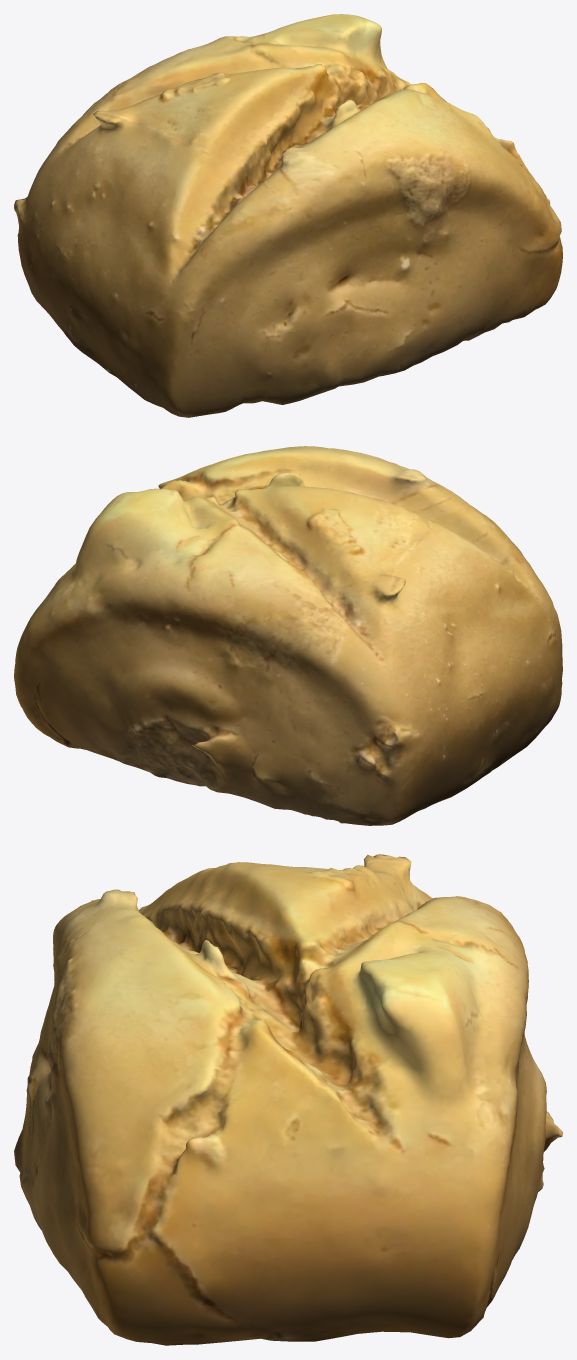
Rendered from 红糖馒头.glb.
3 views of the same model, one above another, from view 1: azimuth 30°, elevation 25°; view 2: azimuth 150°, elevation 25°; view 3: azimuth 270°, elevation 25° (orthographic). The views are drawn at different scales.
Visible parts, largest first — view 1: 某种馒头.usdz; view 2: 某种馒头.usdz; view 3: 某种馒头.usdz.
Boxes of the visible parts, x1,y1,x2,y2 form: 某种馒头.usdz: [14, 14, 562, 417]; 某种馒头.usdz: [14, 446, 562, 825]; 某种馒头.usdz: [14, 854, 562, 1345].
Bounding box in the file's own units: 0.1075 × 0.0613 × 0.0895.
Materials: 1 (1 with a texture image).
